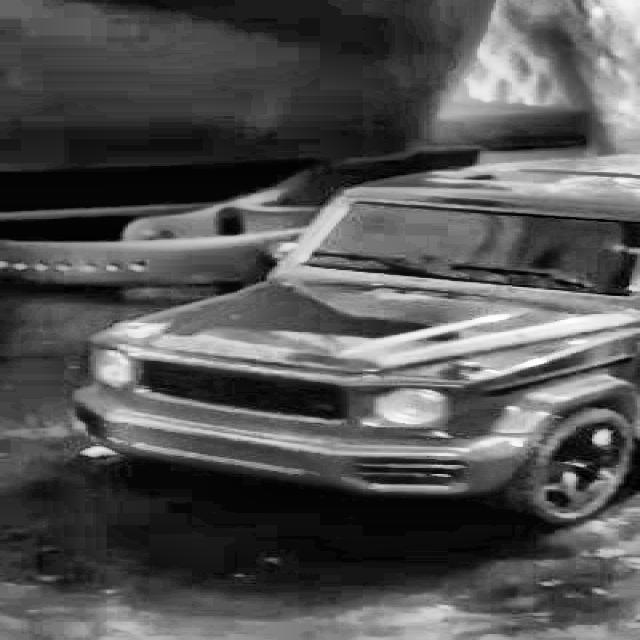light_vehicle: (58, 155, 640, 507)
